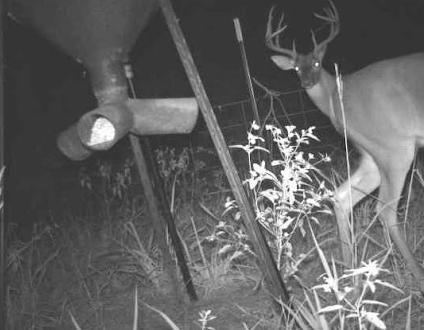Deer: (258, 0, 424, 309)
